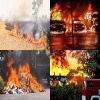fire: (50, 2, 97, 34), (6, 58, 45, 93), (50, 55, 91, 76), (9, 23, 45, 43), (50, 80, 55, 86), (56, 80, 61, 86), (67, 80, 71, 85), (73, 81, 77, 85)
